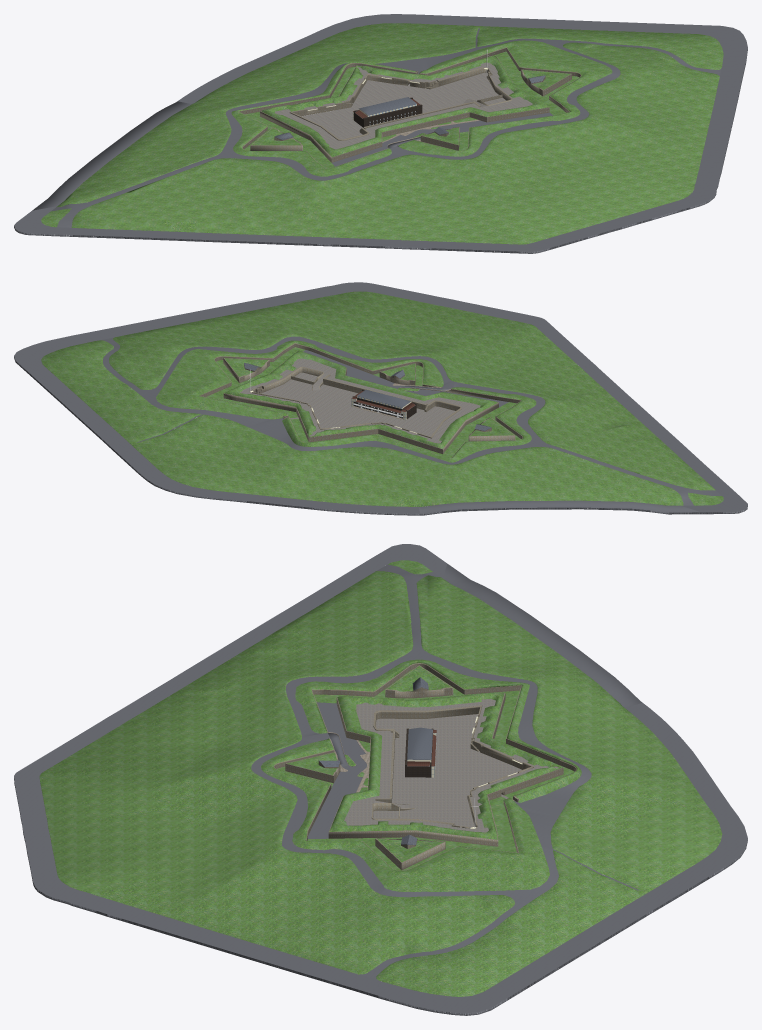
The model's file is citadel.dae.
The picture shows the model from 3 angles, top to bottom: view 1: azimuth 30°, elevation 25°; view 2: azimuth 150°, elevation 25°; view 3: azimuth 270°, elevation 25°; orthographic projection. The views are drawn at different scales.
Parts seen in each view (by area): view 1: Hill, OuterRoad, Grass_Outer, Road_Perimeter, Ground_placa, Grass_Upper, Ground_Upper, Grass_Ditch, Wall_Inner, Wall_Outer, Wall_Ditch, Parking_Asphalt (+6 smaller); view 2: Hill, OuterRoad, Grass_Outer, Road_Perimeter, Ground_placa, Grass_Upper, Grass_Ditch, Ground_Upper, Wall_Outer, Wall_Inner, Wall_Ditch, Cavalier (+2 smaller); view 3: Hill, OuterRoad, Grass_Outer, Road_Perimeter, Ground_placa, Grass_Upper, Ground_Upper, Grass_Ditch, Wall_Inner, Wall_Ditch, Parking_Asphalt, Wall_Outer (+1 smaller).
Boxes of the visible parts, x1,y1,x2,y2 form: Hill: (41, 23, 723, 244); OuterRoad: (14, 14, 747, 253); Grass_Outer: (231, 40, 612, 176); Road_Perimeter: (51, 28, 721, 227); Ground_placa: (301, 72, 505, 139); Grass_Upper: (261, 56, 548, 157); Ground_Upper: (274, 62, 532, 149); Grass_Ditch: (244, 51, 579, 169); Wall_Inner: (289, 67, 512, 140); Wall_Outer: (260, 56, 549, 162); Wall_Ditch: (239, 47, 581, 168); Parking_Asphalt: (332, 112, 553, 166); Hill: (41, 291, 723, 506); OuterRoad: (14, 282, 747, 515); Grass_Outer: (156, 340, 536, 462); Road_Perimeter: (100, 336, 721, 505); Ground_placa: (261, 372, 455, 436); Grass_Upper: (225, 350, 497, 448); Grass_Ditch: (206, 347, 520, 458); Ground_Upper: (240, 358, 480, 443); Wall_Outer: (223, 351, 498, 454); Wall_Inner: (249, 366, 461, 438); Wall_Ditch: (199, 343, 522, 457); Cavalier: (351, 389, 416, 420); Hill: (39, 560, 722, 996); OuterRoad: (14, 544, 747, 1015); Grass_Outer: (261, 659, 581, 891); Road_Perimeter: (251, 564, 638, 981); Ground_placa: (373, 714, 521, 827); Grass_Upper: (329, 692, 562, 839); Ground_Upper: (344, 698, 558, 832); Grass_Ditch: (277, 669, 574, 870); Wall_Inner: (371, 705, 533, 829); Wall_Ditch: (274, 663, 576, 870); Parking_Asphalt: (307, 702, 366, 838); Wall_Outer: (328, 693, 563, 846).
Bounding box in the file's own units: 811 × 536 × 49.3.
